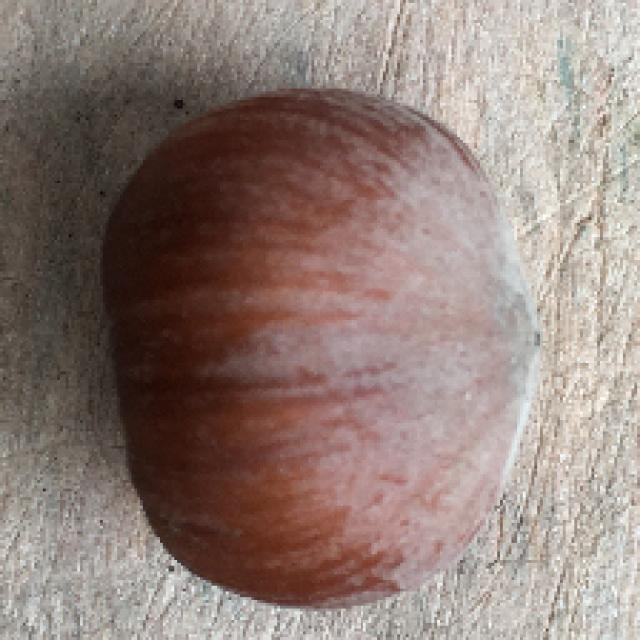QualityHazelnut: (96, 91, 546, 611)
